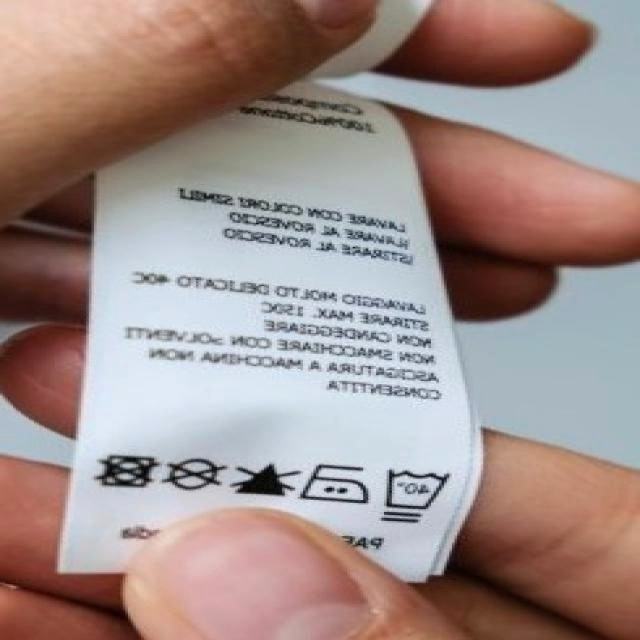40C: (381, 462, 446, 525)
DN_bleach: (229, 454, 294, 504)
DN_dry_clean: (165, 454, 223, 495)
DN_tumble_dry: (96, 452, 156, 493)
iron_medium: (296, 456, 371, 513)
